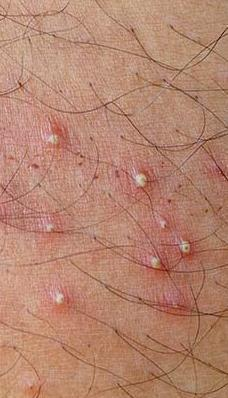folliculitis: (37, 125, 75, 156), (47, 283, 77, 313), (132, 166, 159, 198), (147, 249, 171, 278), (151, 215, 182, 237), (176, 234, 198, 260), (43, 214, 62, 244)
